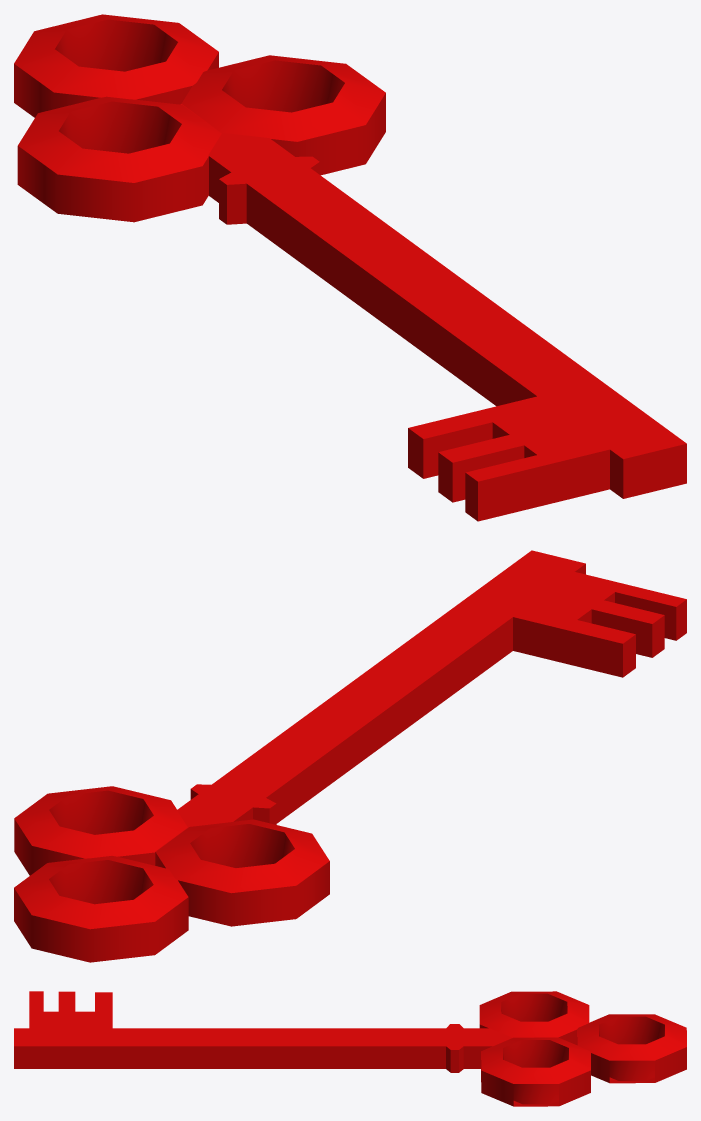
The model's file is redKey.fbx.
3 views of the same model, one above another, from view 1: azimuth 30°, elevation 25°; view 2: azimuth 150°, elevation 25°; view 3: azimuth 270°, elevation 25° (orthographic). The views are drawn at different scales.
Visible parts, largest first — view 1: redKey; view 2: redKey; view 3: redKey.
Part boxes in pixels (box(x1,y1,x2,y2)): redKey: box(14, 14, 686, 521); redKey: box(14, 550, 686, 962); redKey: box(14, 991, 686, 1106).
Bounding box in the file's own units: 5.18 × 0.9511 × 15.92.
